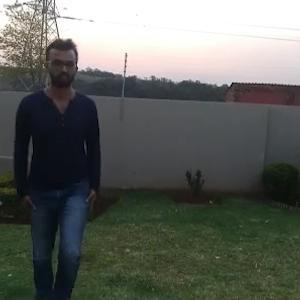follow: (19, 39, 99, 299)
